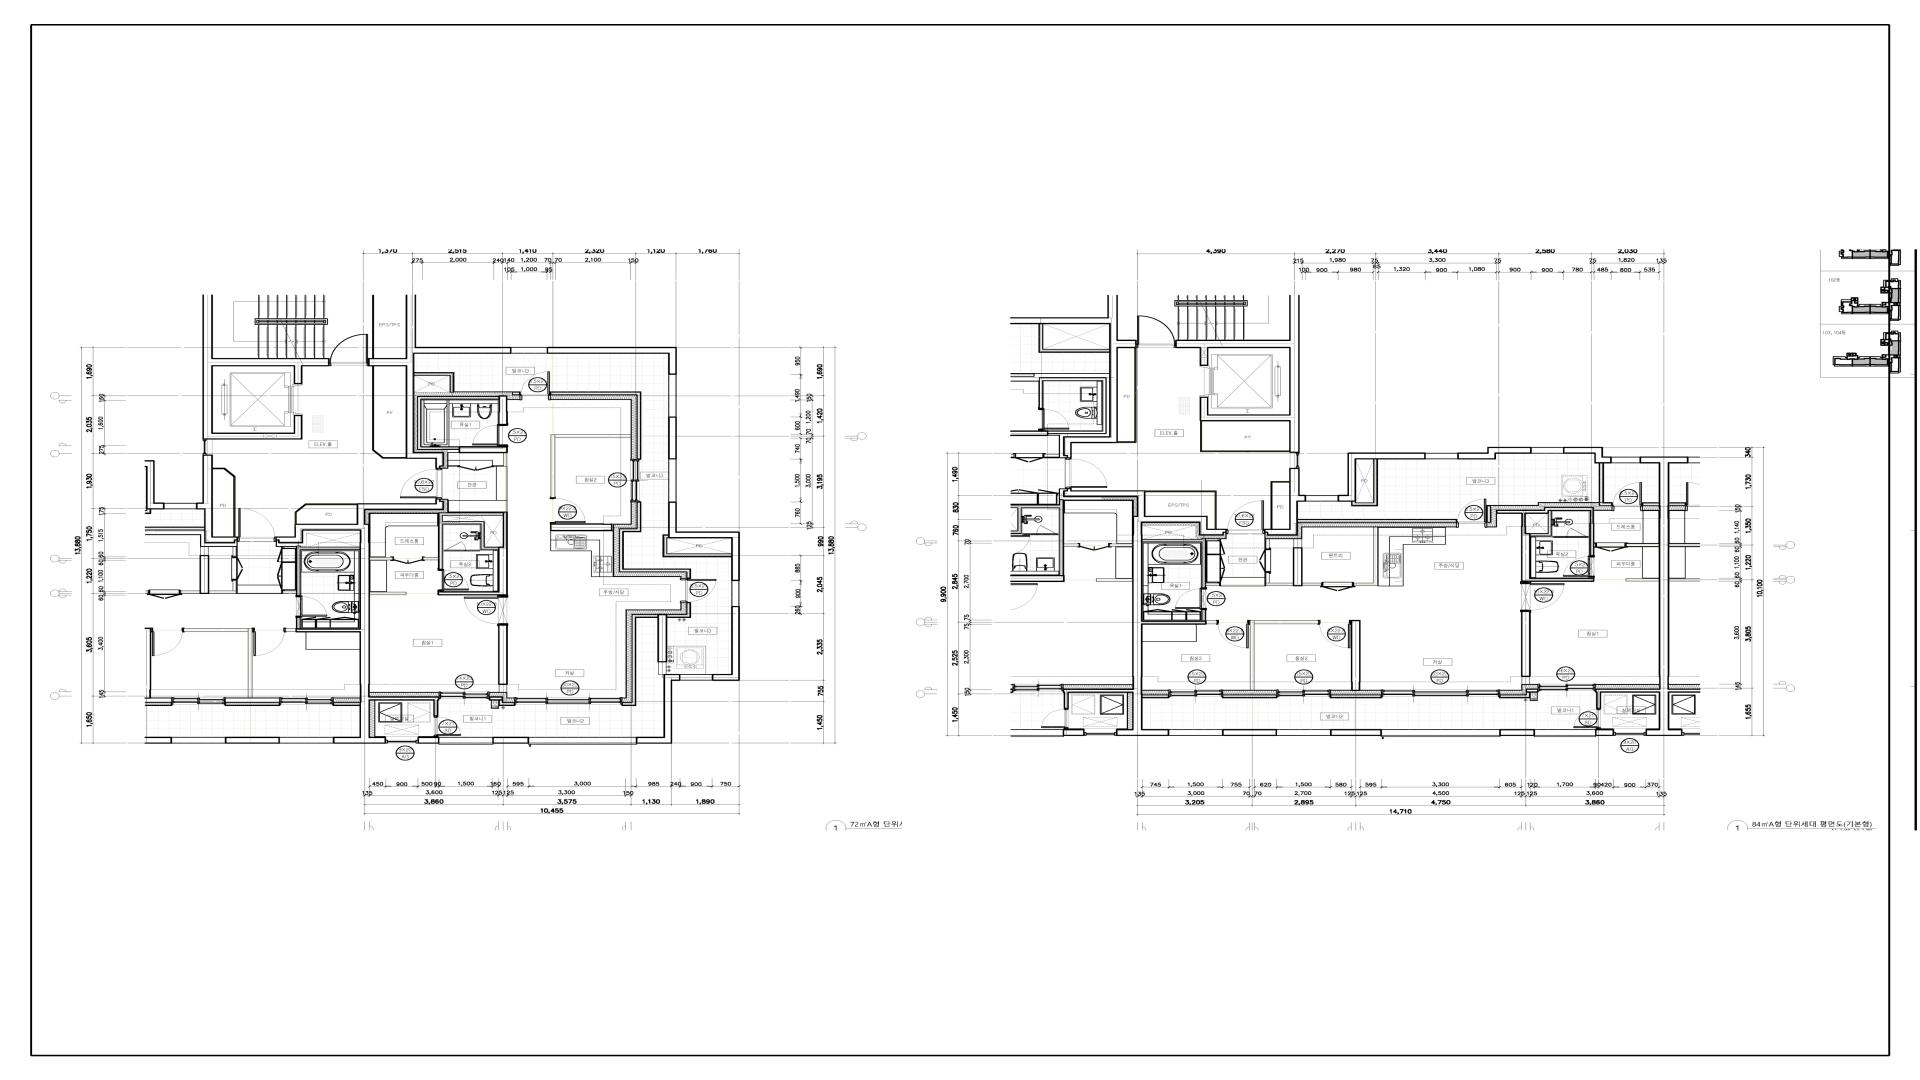door: (1137, 315, 1176, 348), (330, 334, 369, 367), (400, 468, 442, 498), (239, 508, 276, 542), (1226, 501, 1265, 534), (1520, 583, 1565, 611), (464, 596, 508, 624), (550, 497, 585, 524), (1613, 481, 1642, 512), (1217, 621, 1249, 649), (1319, 621, 1350, 649), (680, 579, 716, 603), (1457, 498, 1486, 527), (521, 371, 550, 400), (472, 425, 509, 446), (1563, 556, 1594, 578), (1175, 588, 1205, 609), (439, 571, 469, 591), (434, 716, 462, 736), (1573, 709, 1601, 728), (448, 460, 493, 471), (1323, 582, 1353, 592), (1596, 543, 1626, 551), (393, 556, 423, 564), (1567, 527, 1588, 537), (444, 542, 465, 551)
wall: (276, 498, 444, 744), (1063, 488, 1226, 736), (369, 294, 512, 468), (1596, 456, 1669, 736), (1176, 295, 1300, 452), (202, 294, 330, 439), (1063, 295, 1137, 458), (1495, 508, 1594, 582), (551, 392, 641, 459), (438, 512, 508, 596), (669, 502, 740, 580), (618, 502, 691, 578), (551, 434, 630, 497), (1250, 621, 1319, 691), (1337, 452, 1425, 502), (417, 396, 498, 450), (196, 455, 239, 543), (438, 513, 502, 570), (547, 347, 676, 375), (622, 615, 658, 705), (1143, 538, 1207, 588), (637, 674, 680, 744), (1265, 468, 1307, 535), (712, 607, 740, 680), (662, 534, 732, 558), (1354, 527, 1378, 585), (1350, 459, 1378, 506), (414, 372, 455, 393), (1458, 447, 1531, 459), (1298, 518, 1457, 524), (1564, 447, 1611, 463), (498, 624, 509, 692), (1352, 620, 1361, 691), (1598, 463, 1613, 506), (1522, 612, 1530, 684), (658, 615, 667, 674), (1531, 512, 1552, 537), (1292, 539, 1303, 587), (550, 524, 613, 531), (459, 446, 508, 454), (667, 603, 691, 618), (1222, 729, 1276, 736), (669, 417, 676, 459), (1331, 729, 1381, 736), (498, 396, 508, 425), (493, 737, 529, 744), (1501, 729, 1535, 736), (1222, 695, 1276, 699), (1499, 692, 1531, 699), (1331, 695, 1382, 699), (418, 736, 439, 744), (1626, 543, 1659, 547), (1596, 729, 1614, 736), (498, 700, 514, 707), (1142, 695, 1168, 699), (371, 592, 406, 595), (1486, 505, 1491, 522), (371, 556, 393, 560), (1626, 579, 1659, 582), (1266, 583, 1292, 585), (1201, 609, 1207, 621), (1643, 502, 1659, 506), (423, 556, 438, 560), (489, 696, 504, 700), (1207, 583, 1220, 587), (1303, 583, 1321, 585), (1526, 688, 1538, 692), (512, 392, 520, 396), (465, 550, 480, 551), (1552, 537, 1567, 538)
window: (1382, 729, 1499, 737), (529, 737, 636, 745), (1382, 690, 1499, 696), (514, 698, 622, 704), (1535, 729, 1596, 737), (439, 737, 493, 745), (1168, 690, 1222, 698), (630, 459, 640, 502), (439, 691, 489, 699), (1538, 684, 1596, 691), (1276, 690, 1331, 696), (1276, 729, 1331, 736), (1170, 729, 1222, 736), (669, 459, 676, 502), (669, 375, 676, 417), (512, 347, 547, 353), (1531, 447, 1564, 454), (1614, 729, 1646, 736), (386, 737, 418, 744), (680, 674, 712, 680), (732, 580, 740, 607), (1425, 452, 1457, 459), (1611, 456, 1640, 463), (1290, 452, 1300, 468), (203, 439, 212, 455)
